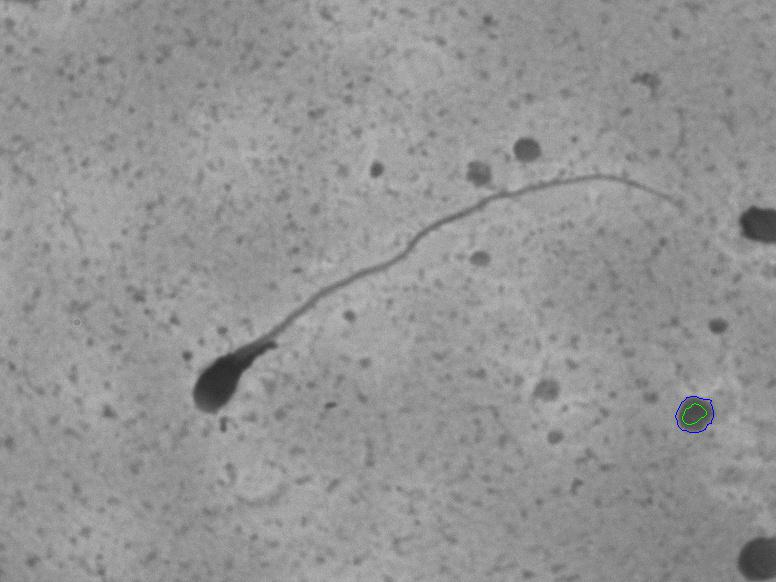Abnormal: (161, 158, 697, 436)
